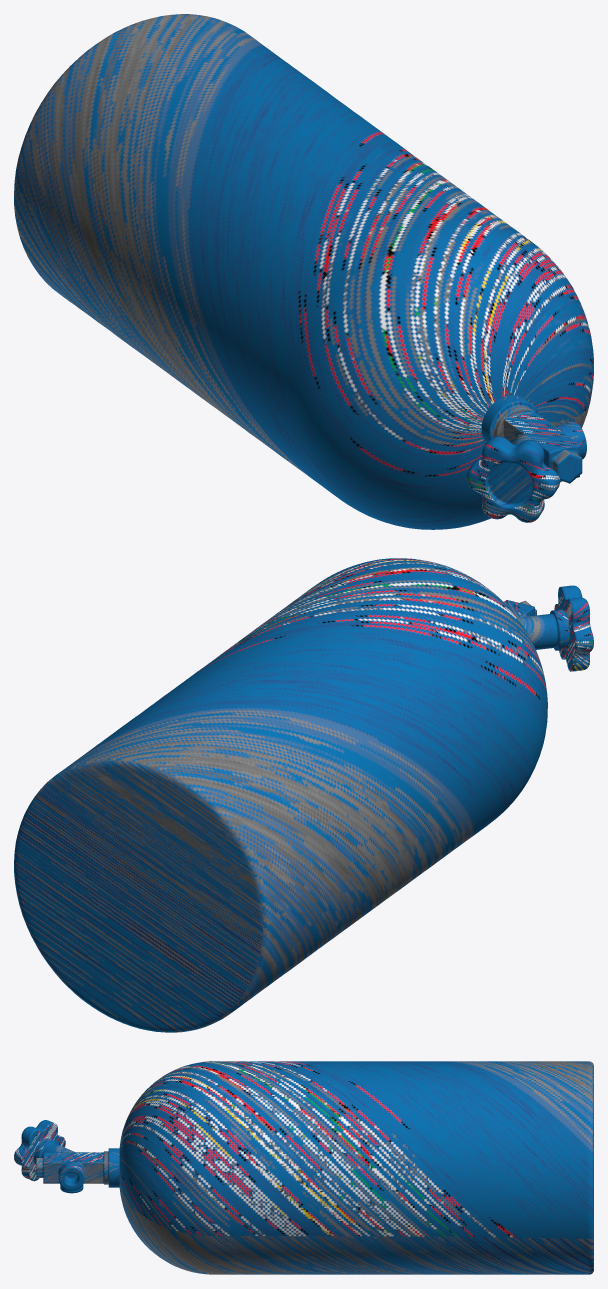
Rendered from nos-nitrous-bottle.glb.
The picture shows the model from 3 angles, top to bottom: view 1: azimuth 30°, elevation 25°; view 2: azimuth 150°, elevation 25°; view 3: azimuth 270°, elevation 25°; orthographic projection. The views are drawn at different scales.
Visible parts, largest first — view 1: mesh_1, mesh_0; view 2: mesh_1, mesh_0; view 3: mesh_1, mesh_0.
Boxes of the visible parts, x1,y1,x2,y2 form: mesh_1: (14, 14, 593, 529); mesh_0: (466, 395, 586, 522); mesh_1: (14, 558, 547, 1032); mesh_0: (504, 585, 593, 671); mesh_1: (119, 1061, 593, 1274); mesh_0: (14, 1120, 119, 1193).
Size of the model in its own units: 0.2025 by 0.2025 by 0.55.
1 material, 1 textured.
